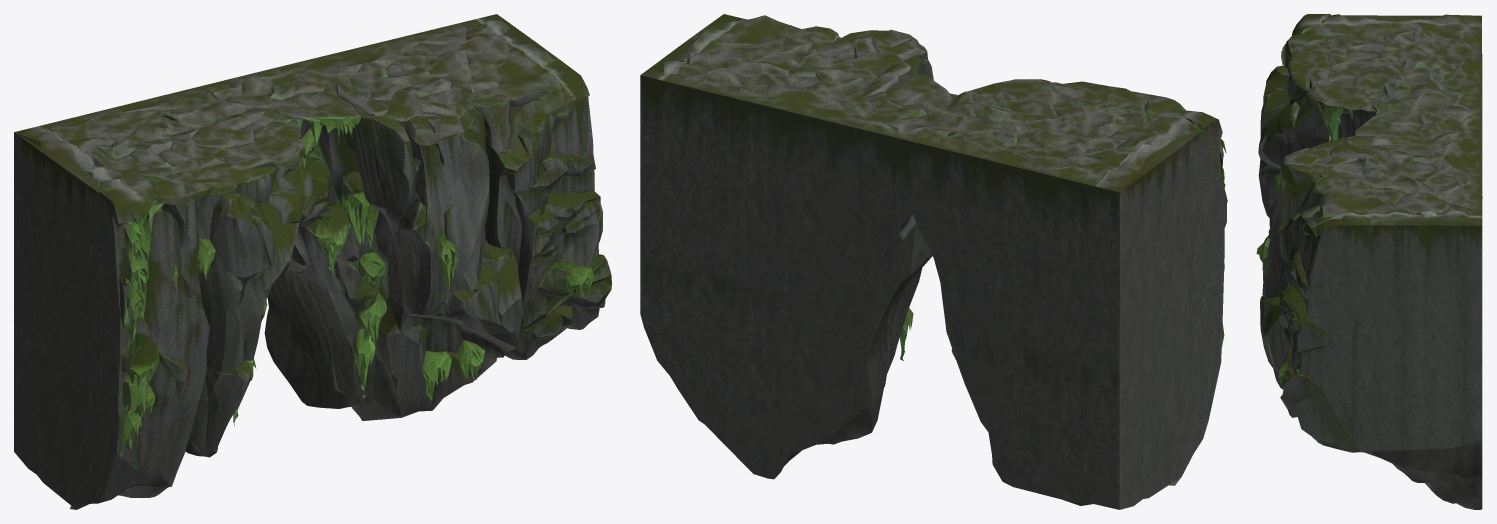
The model's file is Cliff_Overhang_Mossy.glb.
3 renders of one model, left to right at view 1: azimuth 30°, elevation 25°; view 2: azimuth 150°, elevation 25°; view 3: azimuth 270°, elevation 25°, orthographic. The views are drawn at different scales.
Size of the model in its own units: 1.9 by 1.43 by 0.8591.
Materials: 1 (1 with a texture image).
